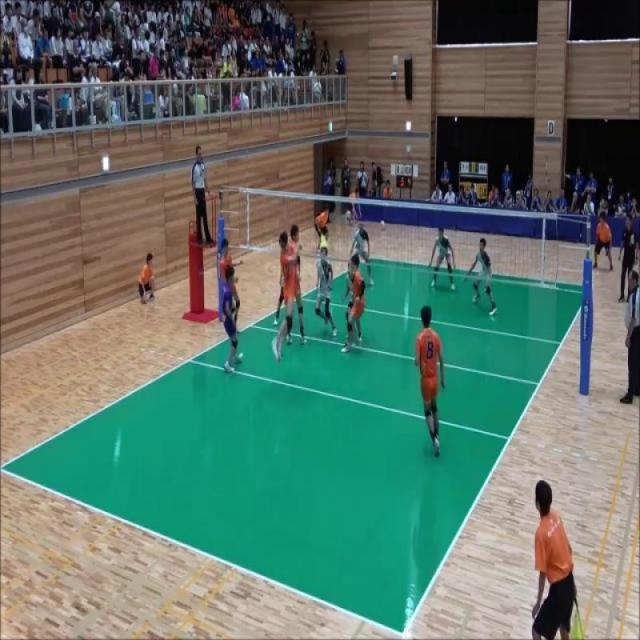volleyball: (314, 80, 322, 96), (380, 220, 385, 230)
